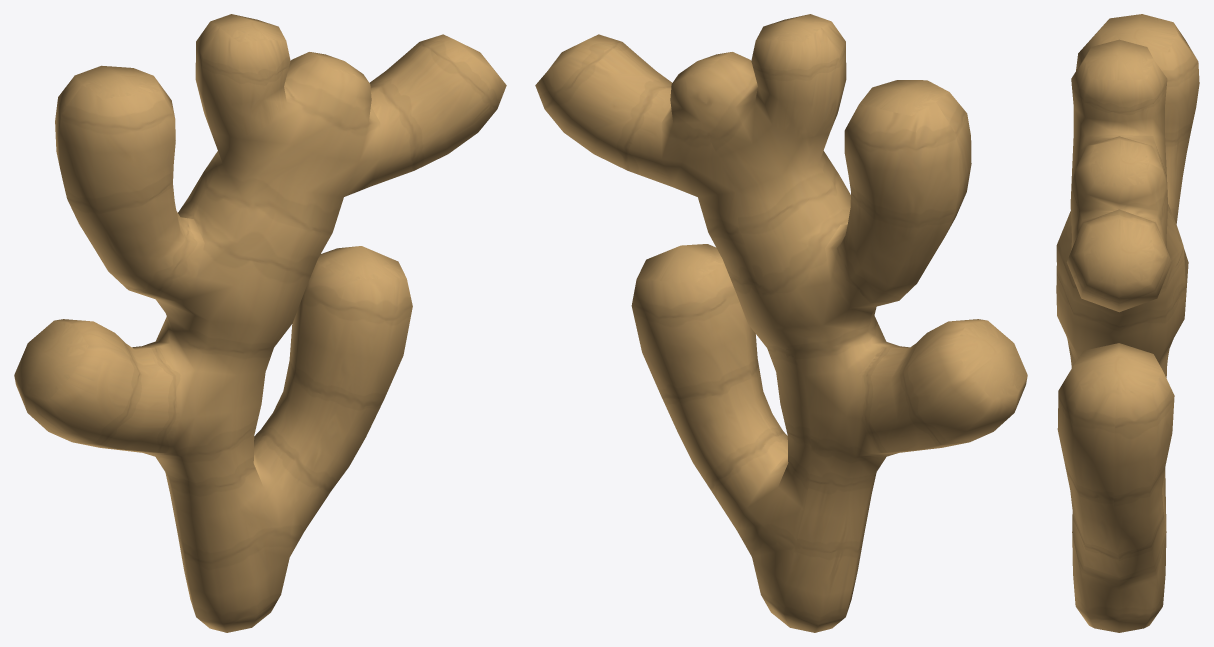
File: model_gengibre_02.fbx
3 renders of one model, left to right at view 1: azimuth 30°, elevation 25°; view 2: azimuth 150°, elevation 25°; view 3: azimuth 270°, elevation 25°, orthographic. The views are drawn at different scales.
Visible parts, largest first — view 1: Cube.001; view 2: Cube.001; view 3: Cube.001.
Part boxes in pixels (<box>): Cube.001: <box>14,14,506,632</box>; Cube.001: <box>535,14,1027,632</box>; Cube.001: <box>1056,14,1199,632</box>.
Bounding box in the file's own units: 0.4683 × 0.5662 × 0.1257.
1 material, 1 textured.
